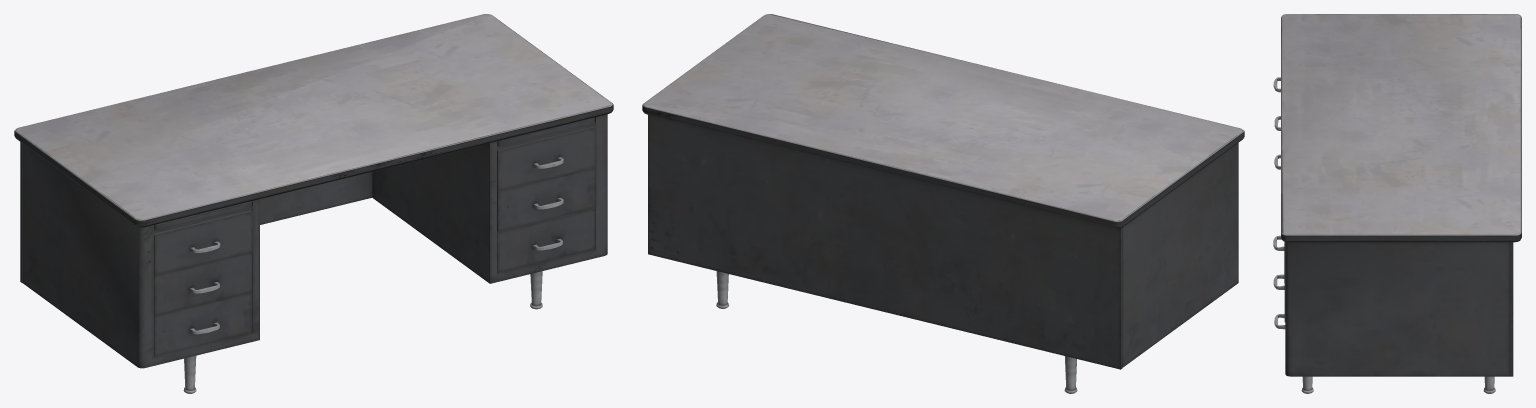
Rendered from metal_office_desk.glb.
3 renders of one model, left to right at view 1: azimuth 30°, elevation 25°; view 2: azimuth 150°, elevation 25°; view 3: azimuth 270°, elevation 25°, orthographic. The views are drawn at different scales.
Visible parts, largest first — view 1: metal_office_desk_drawer_06; view 2: metal_office_desk_drawer_06; view 3: metal_office_desk_drawer_06.
Part boxes in pixels (x1,y1,x2,y2): metal_office_desk_drawer_06: [14, 14, 613, 393]; metal_office_desk_drawer_06: [642, 14, 1244, 393]; metal_office_desk_drawer_06: [1273, 14, 1521, 393].
Bounding box in the file's own units: 2 × 0.7874 × 0.9471.
Materials: 1 (1 with a texture image).
